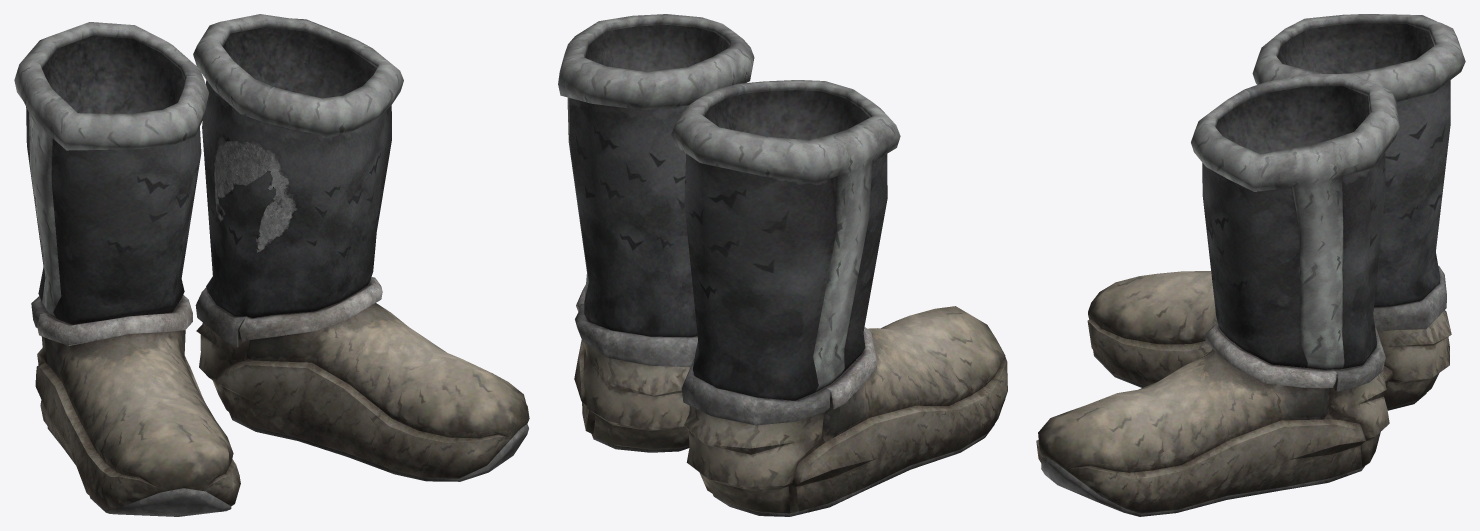
Rendered from wolf_boots.fbx.
3 views of the same model, side by side, from view 1: azimuth 30°, elevation 25°; view 2: azimuth 150°, elevation 25°; view 3: azimuth 270°, elevation 25° (orthographic). The views are drawn at different scales.
Parts seen in each view (by area): view 1: wolf_boots; view 2: wolf_boots; view 3: wolf_boots.
Boxes of the visible parts, box(x1,y1,x2,y2) form: wolf_boots: box(14, 14, 529, 516); wolf_boots: box(558, 14, 1007, 516); wolf_boots: box(1036, 14, 1465, 516).
Size of the model in its own units: 37.33 by 33.99 by 36.54.
1 material, 1 textured.
